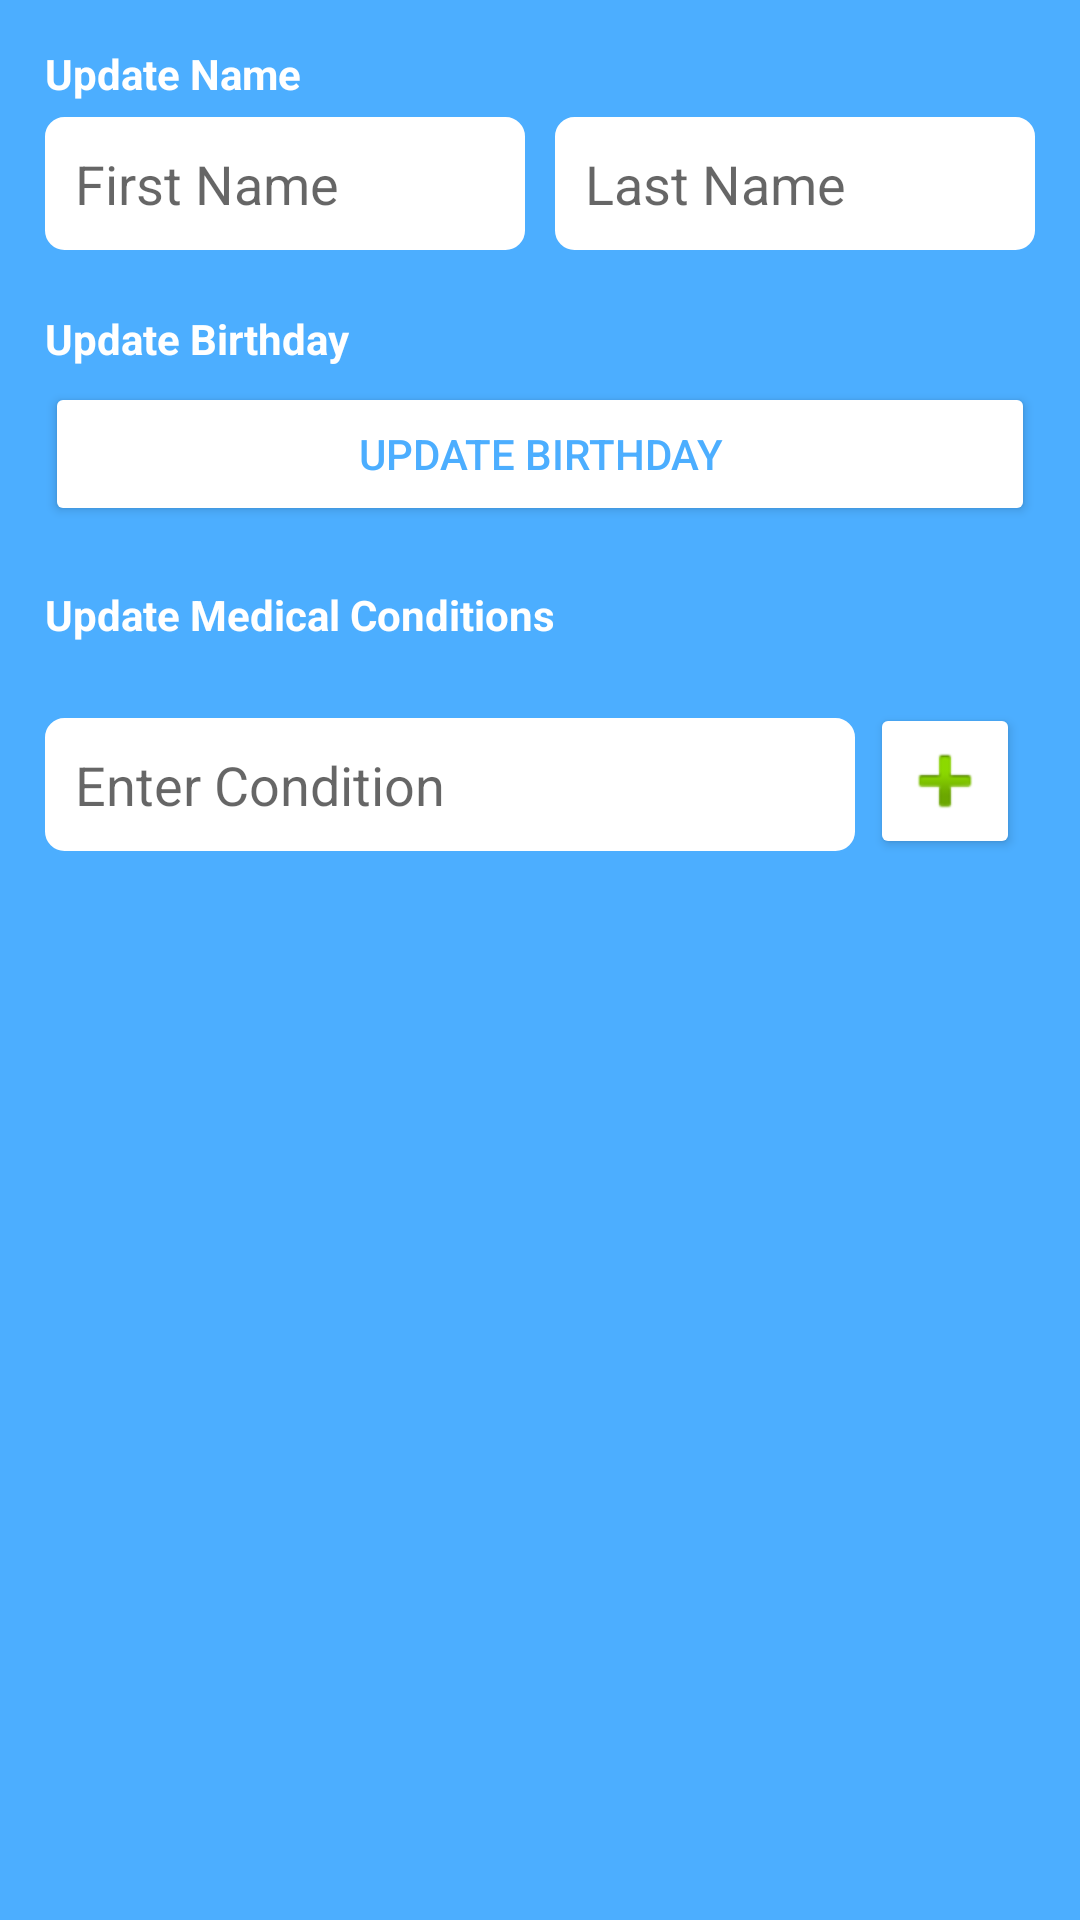

Icon bounding boxes for this 1080 x 1920 phone screenshot, format (x1, y1, x2, y2):
add: (882, 721, 1009, 843)
